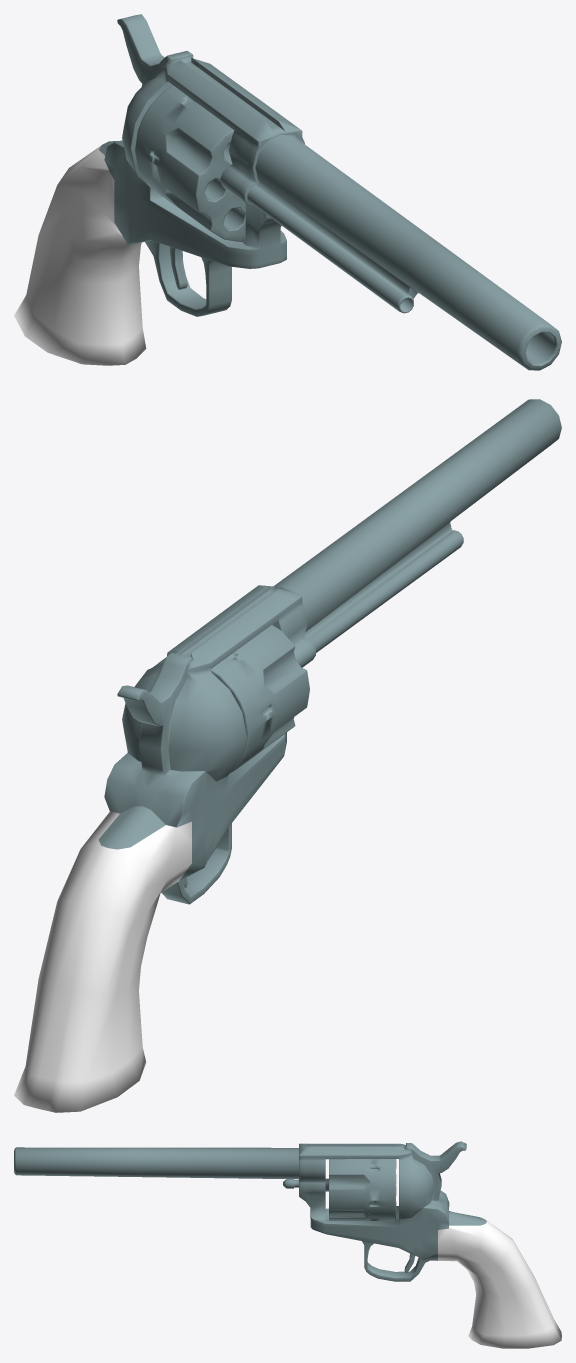
File: SAA3.glb
The picture shows the model from 3 angles, top to bottom: view 1: azimuth 30°, elevation 25°; view 2: azimuth 150°, elevation 25°; view 3: azimuth 270°, elevation 25°; orthographic projection. The views are drawn at different scales.
Parts seen in each view (by area): view 1: Plane; view 2: Plane; view 3: Plane.
Part boxes in pixels (x1,y1,x2,y2): Plane: (14, 14, 561, 370); Plane: (14, 399, 561, 1112); Plane: (14, 1141, 561, 1348).
Bounding box in the file's own units: 0.5878 × 1.7 × 4.39.
